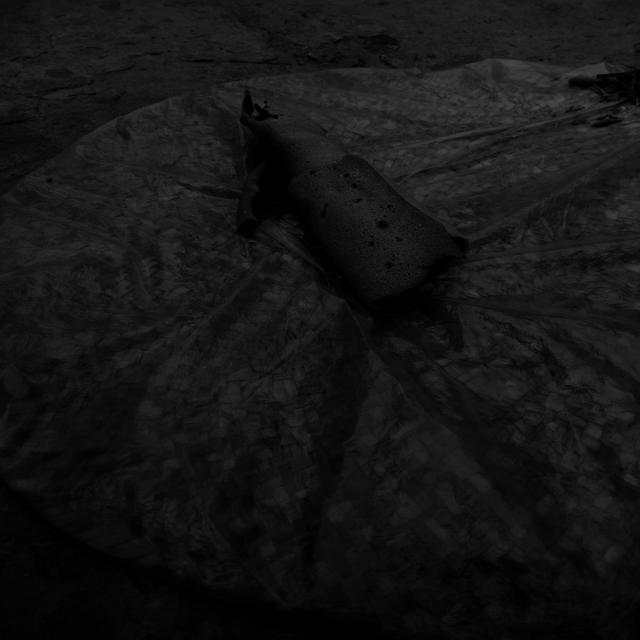injera_mold: (318, 202, 332, 220), (380, 259, 395, 271), (363, 238, 376, 250), (374, 222, 392, 230), (392, 235, 405, 244), (384, 202, 395, 212), (353, 196, 362, 206), (349, 181, 359, 190), (324, 140, 332, 150), (341, 173, 352, 179), (309, 170, 315, 176), (339, 161, 344, 165), (384, 306, 390, 309), (316, 170, 322, 172), (337, 165, 340, 168), (355, 162, 358, 165), (382, 182, 386, 184), (418, 224, 422, 226), (422, 228, 426, 230), (336, 159, 339, 161), (415, 227, 418, 229), (415, 210, 418, 212), (380, 185, 382, 188), (360, 168, 363, 170), (327, 192, 329, 195), (371, 173, 373, 176), (421, 280, 423, 283), (358, 165, 360, 167), (381, 179, 383, 181), (357, 172, 359, 174), (406, 193, 408, 195), (335, 162, 337, 164), (343, 167, 345, 169), (354, 172, 356, 174), (369, 171, 372, 172), (364, 166, 365, 168), (378, 183, 379, 185), (357, 170, 359, 171), (439, 234, 441, 235), (400, 202, 402, 203), (384, 197, 386, 198), (385, 186, 387, 187), (391, 189, 393, 190), (368, 175, 370, 176), (361, 166, 362, 167), (333, 169, 334, 170), (387, 190, 389, 190), (376, 180, 379, 180), (364, 170, 366, 170)
